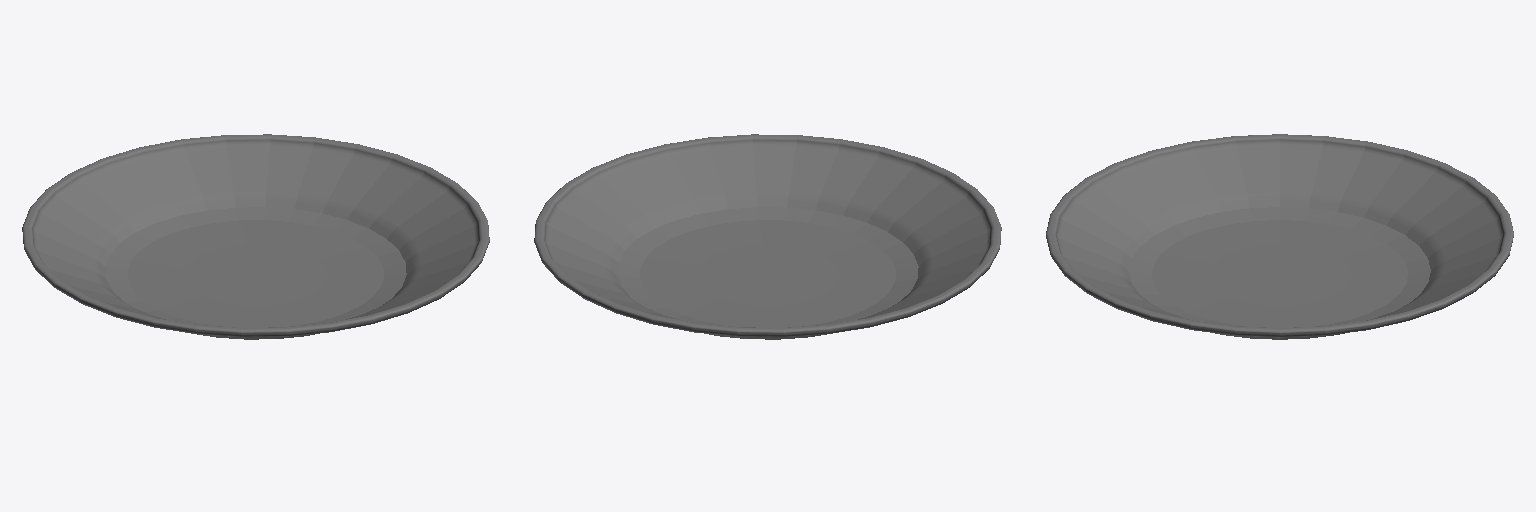
Rendered from Plate_post.obj.
3 renders of one model, left to right at view 1: azimuth 30°, elevation 25°; view 2: azimuth 150°, elevation 25°; view 3: azimuth 270°, elevation 25°, orthographic.
Parts seen in each view (by area): view 1: Line001; view 2: Line001; view 3: Line001.
Part boxes in pixels (left/top/right/bottom): Line001: left=22, top=134, right=489, bottom=339; Line001: left=534, top=134, right=1001, bottom=339; Line001: left=1046, top=134, right=1513, bottom=339.
Bounding box in the file's own units: 209 × 23.43 × 209.